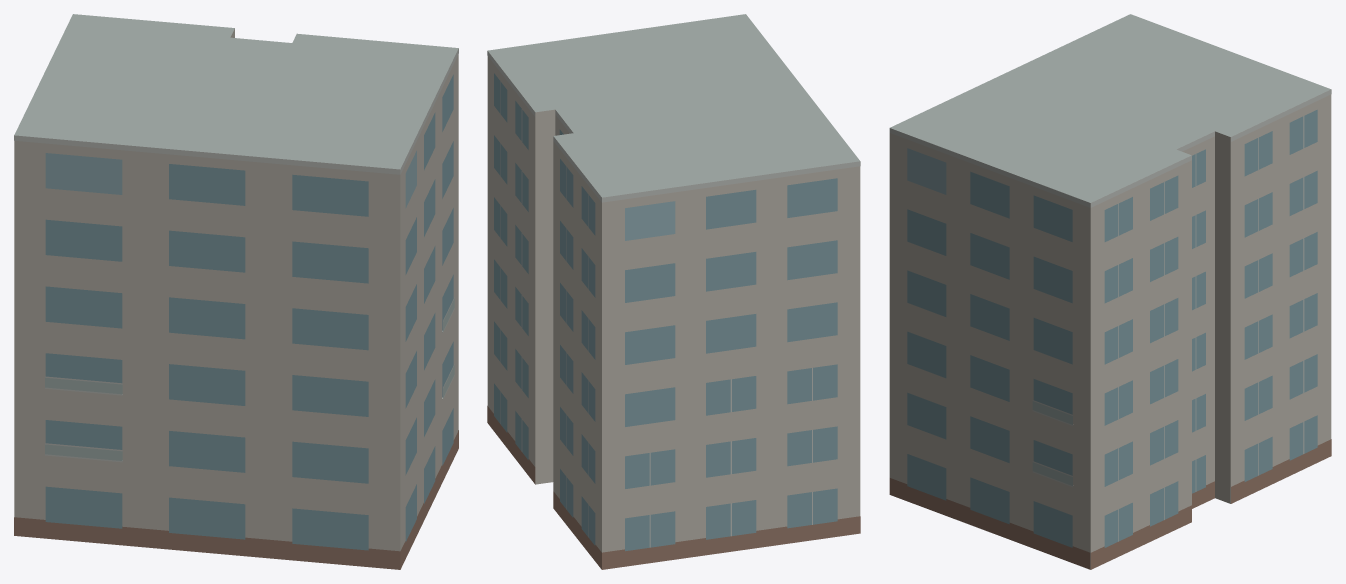
The model's file is survey-upis-32523878.glb.
3 views of the same model, side by side, from view 1: azimuth 30°, elevation 25°; view 2: azimuth 150°, elevation 25°; view 3: azimuth 270°, elevation 25° (orthographic). The views are drawn at different scales.
Visible parts, largest first — view 1: survey-upis-32523878.tmp; view 2: survey-upis-32523878.tmp; view 3: survey-upis-32523878.tmp.
Boxes of the visible parts, x1=… form: survey-upis-32523878.tmp: x1=14, y1=14, x2=458, y2=569; survey-upis-32523878.tmp: x1=487, y1=14, x2=860, y2=569; survey-upis-32523878.tmp: x1=889, y1=14, x2=1331, y2=569.
Size of the model in its own units: 20.24 by 18.3 by 19.98.
